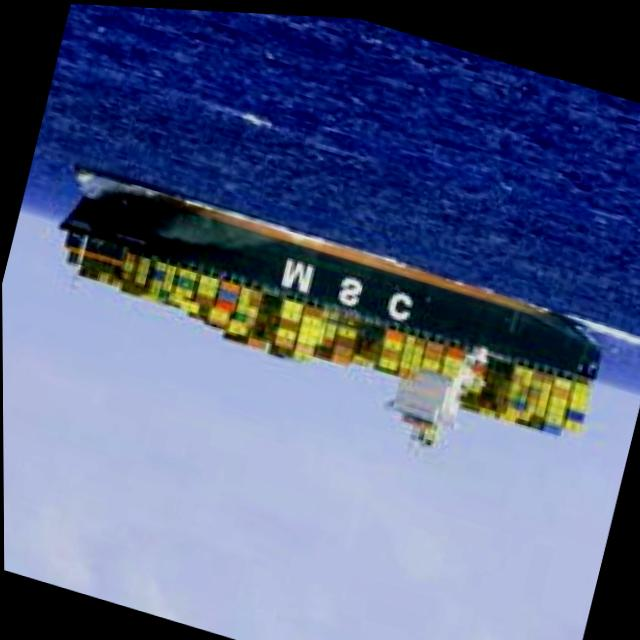ship2: (61, 167, 602, 437)
